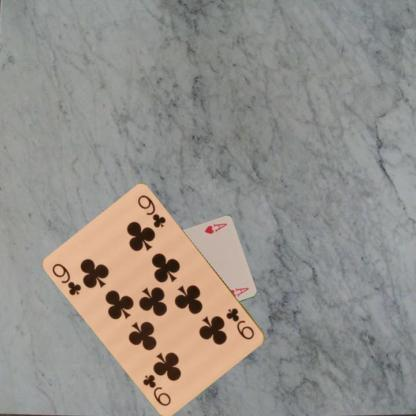9c: (50, 260, 83, 298), (223, 305, 256, 342)
Ah: (202, 220, 229, 235)
